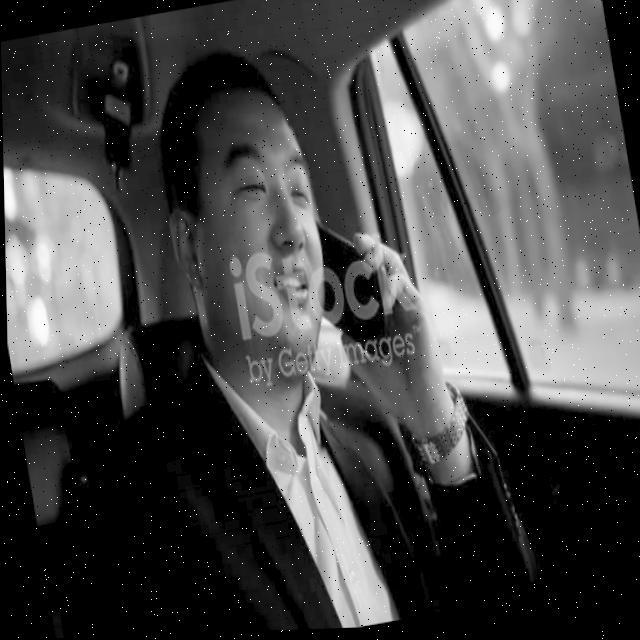PhoneCall: (313, 221, 398, 372)
